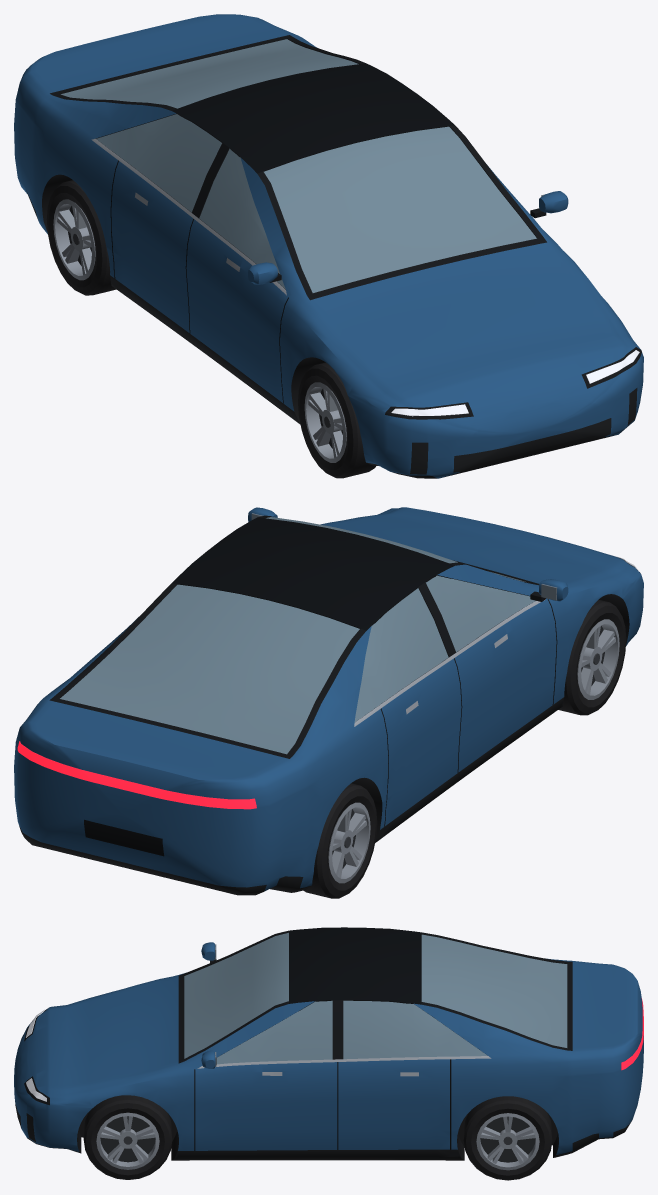
Rendered from CityCar.fbx.
3 views of the same model, one above another, from view 1: azimuth 30°, elevation 25°; view 2: azimuth 150°, elevation 25°; view 3: azimuth 270°, elevation 25° (orthographic). The views are drawn at different scales.
Visible parts, largest first — view 1: Body, Glass, Wheel_FR, Wheel_RR, Headlights; view 2: Body, Glass, Wheel_RR, Wheel_FR, Taillights; view 3: Body, Glass, Wheel_FL, Wheel_RL.
Part boxes in pixels (x1,y1,x2,y2): Body: (14,14,643,478); Glass: (61,39,536,292); Wheel_FR: (298,362,375,478); Wheel_RR: (46,180,116,295); Headlights: (391,350,639,415); Body: (14,507,643,895); Glass: (60,517,535,754); Wheel_RR: (303,783,377,898); Wheel_FR: (558,599,626,715); Taillights: (17,741,256,809); Body: (14,927,643,1160); Glass: (184,932,567,1064); Wheel_FL: (83,1095,172,1179); Wheel_RL: (463,1096,552,1180).
Size of the model in its own units: 7.43 by 5.16 by 16.96.
